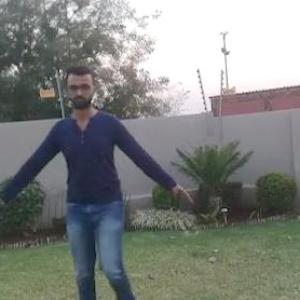land: (1, 74, 184, 299)
